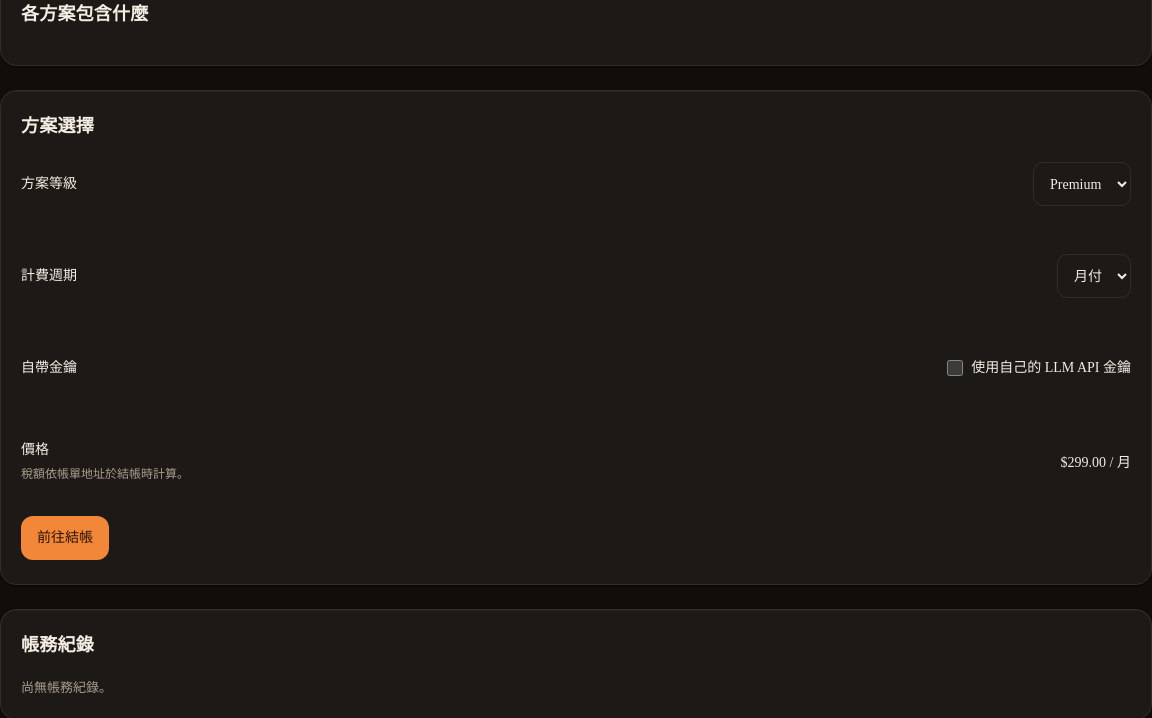
Test: BillingPanel actions › maps the checkout error code same_plan
The image size is (1152, 718).
(page scrolled)
What coordinates should you click on to do the following:
click the button "前往結帳"
I would click on:
 (65, 538)
Its box is 21,516 -> 109,560.
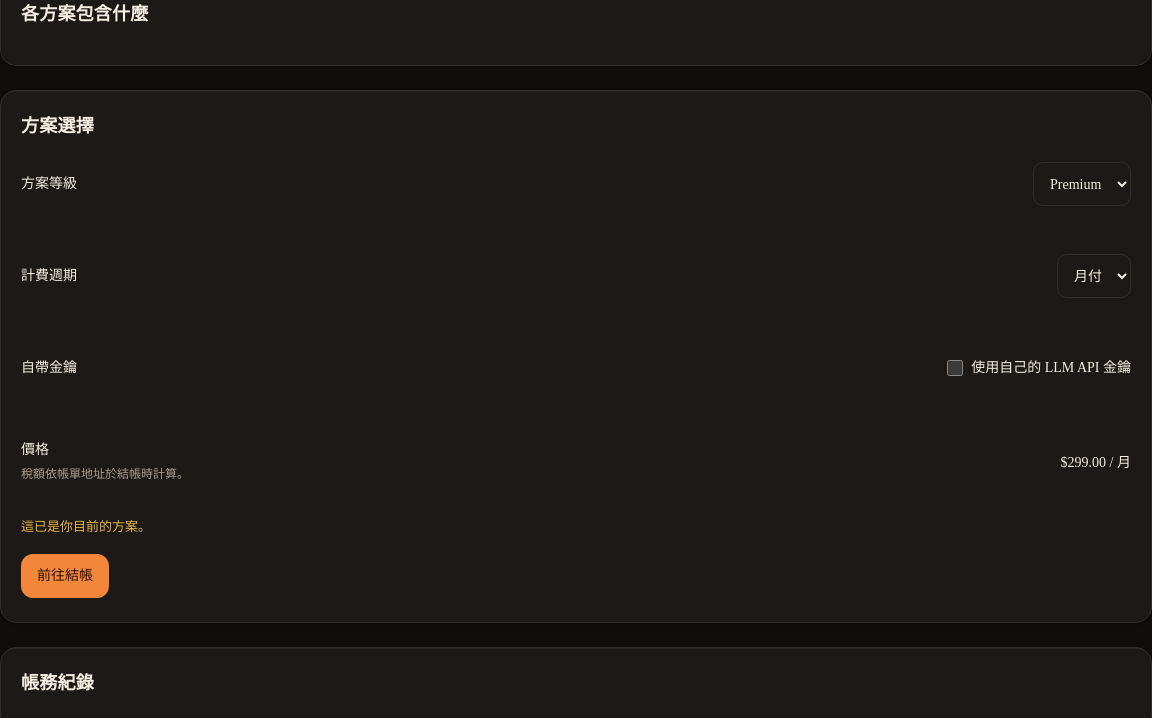
Expected: the message reads "這已是你目前的方案。", 21,519 -> 151,534
